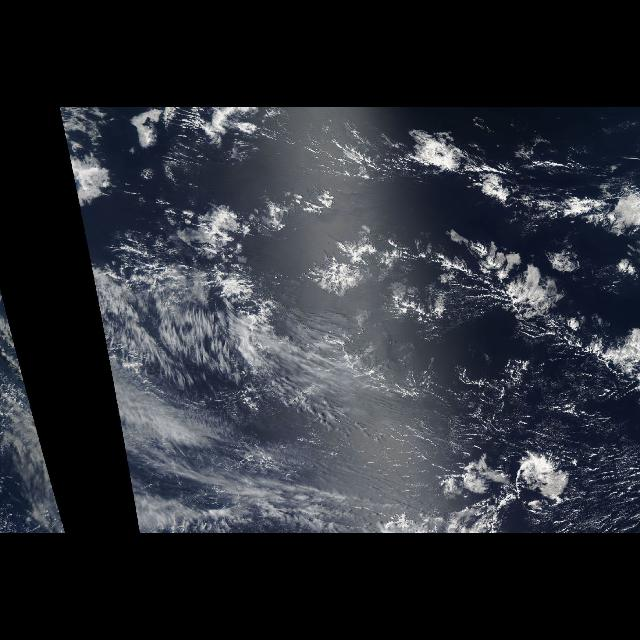Fish: (304, 120, 640, 388)
Gravel: (430, 461, 588, 533)
Sugar: (390, 377, 638, 453)
